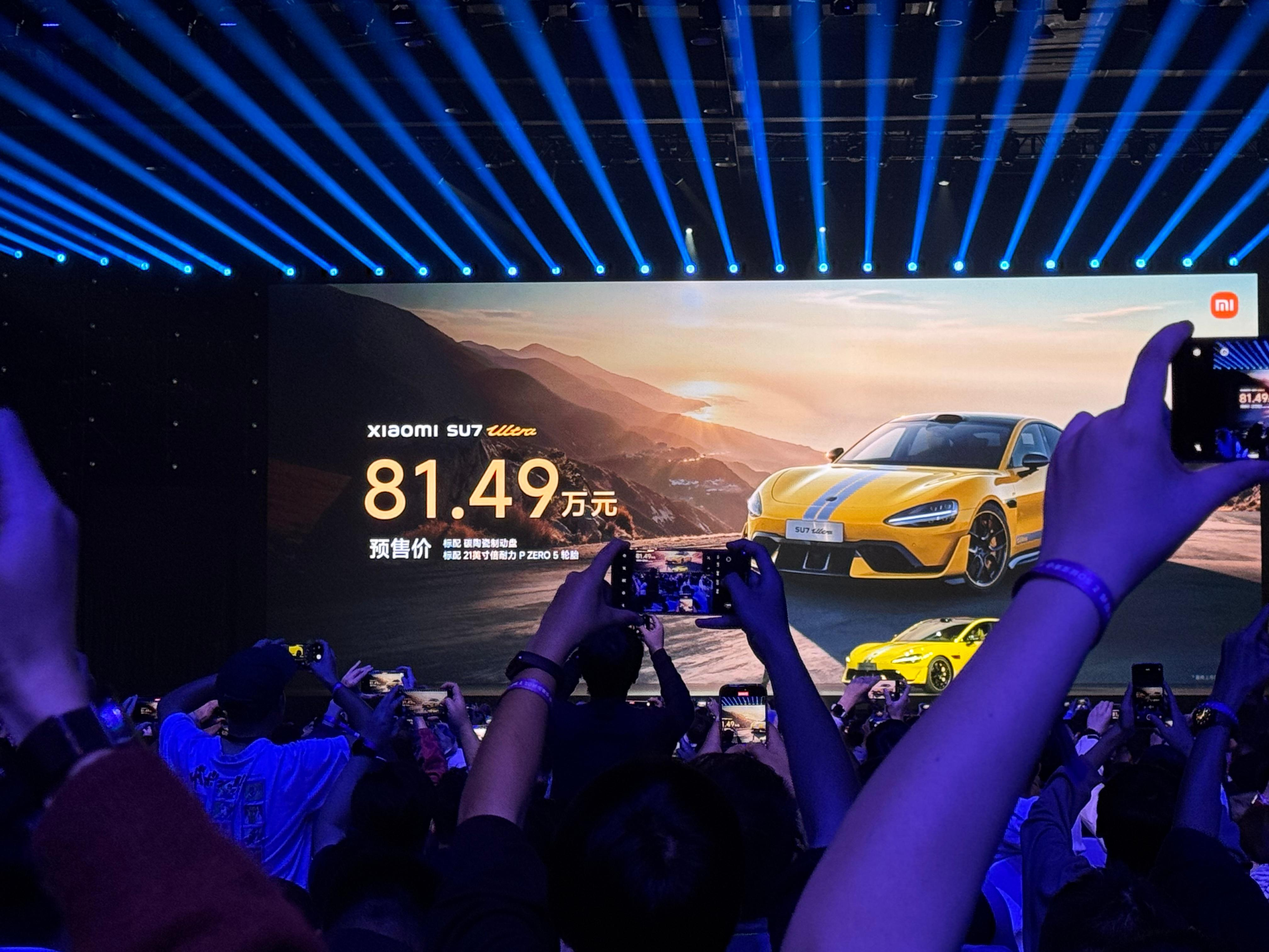su7: (732, 390, 1090, 592), (837, 619, 1015, 696)
